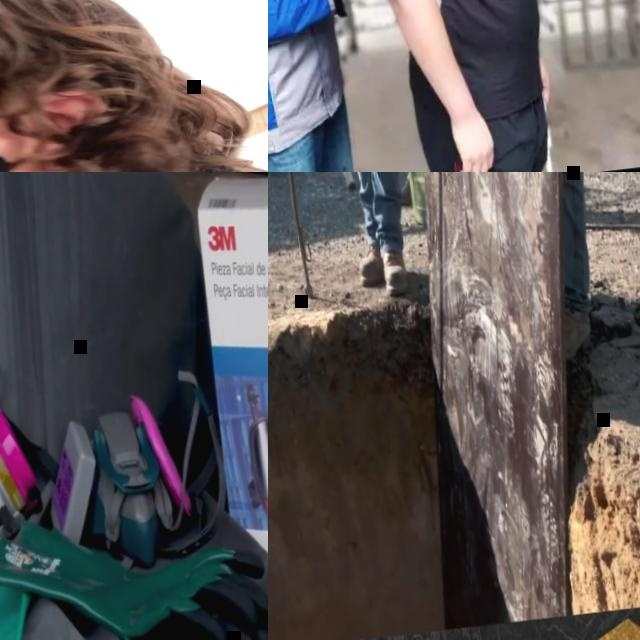Mask: (31, 383, 201, 576), (0, 386, 47, 570)
NO-Hardhat: (0, 0, 152, 104)
NO-Safety Vest: (379, 0, 548, 123), (268, 0, 351, 135)
Person: (0, 0, 268, 172), (329, 0, 559, 172), (268, 0, 414, 172), (526, 172, 618, 357), (333, 172, 423, 298), (384, 172, 433, 208)
